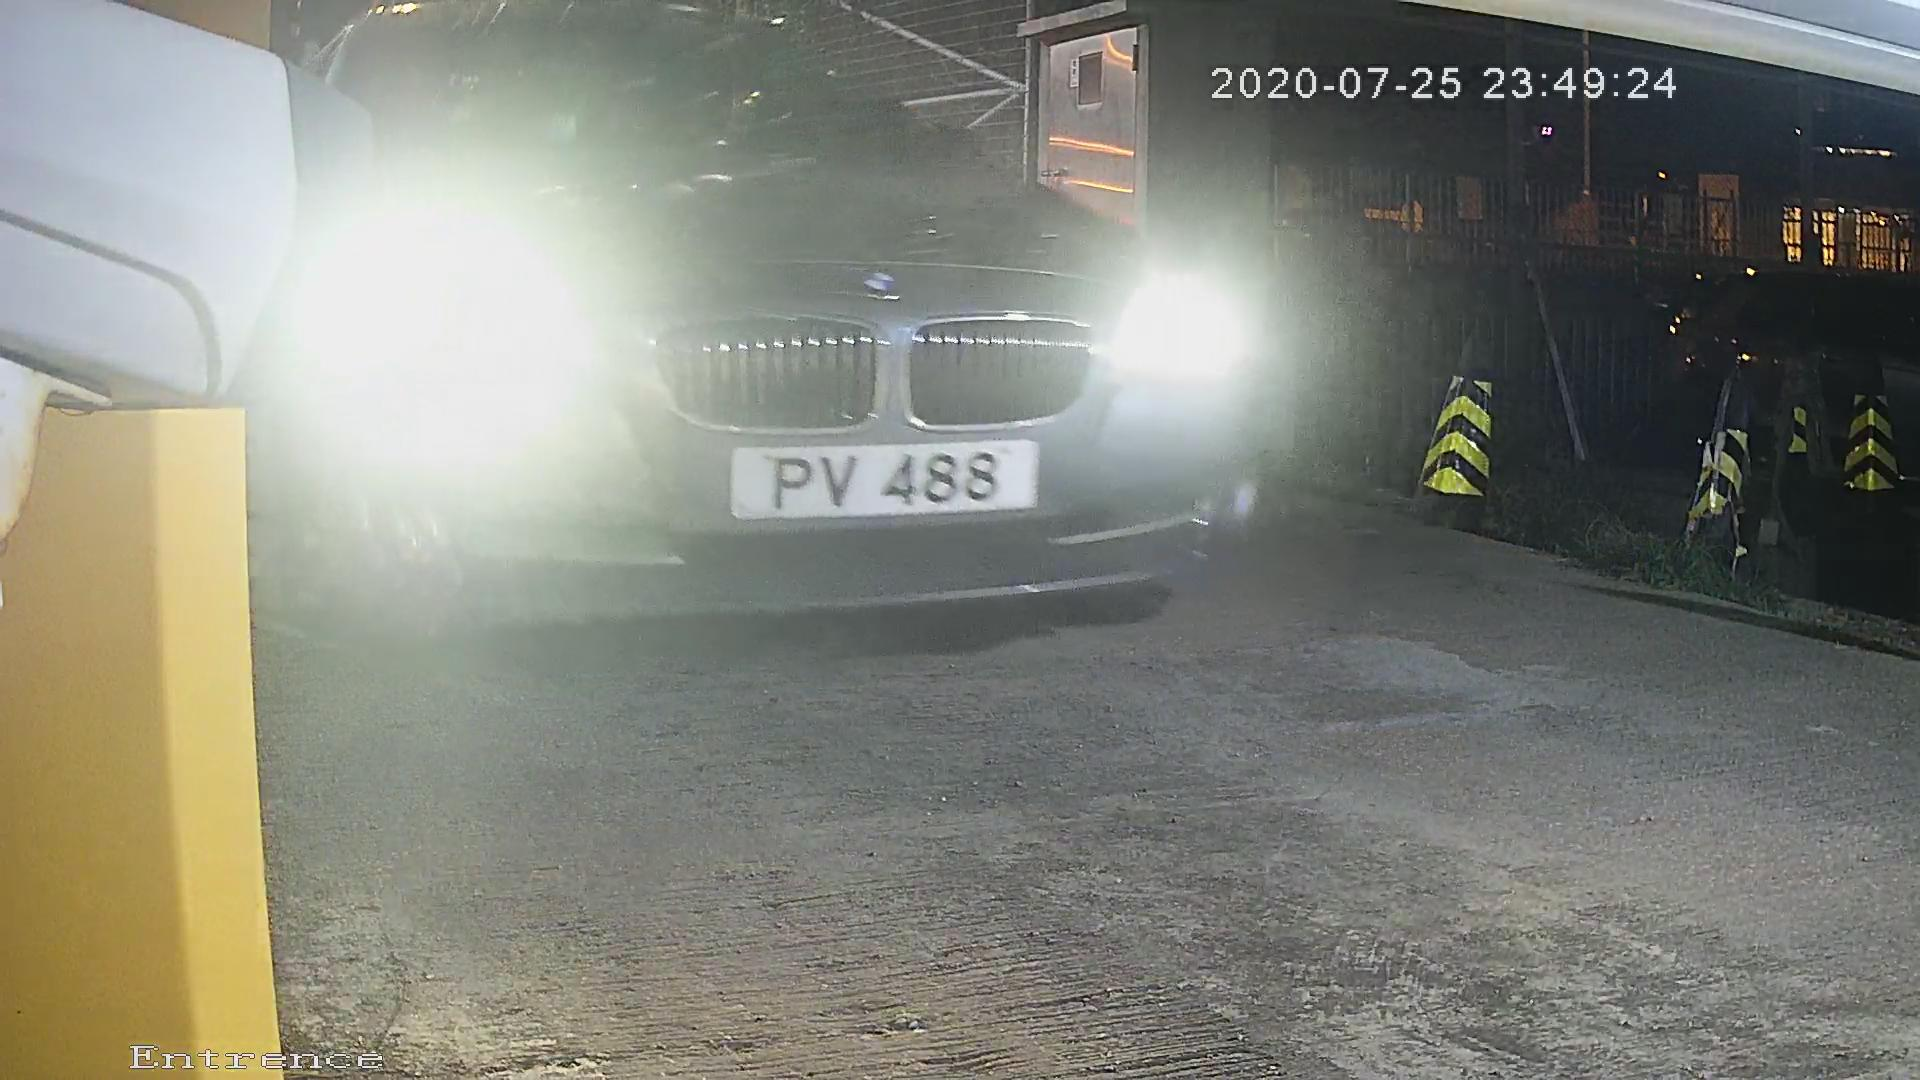License Plate: (695, 415, 1063, 531)
